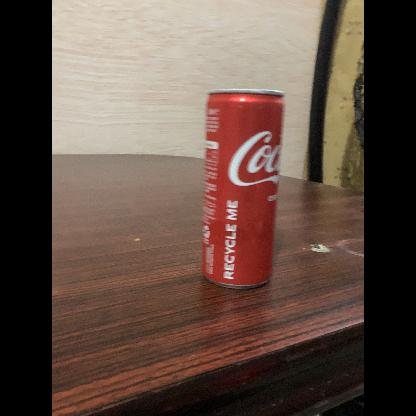Tin_Can: (197, 76, 292, 298)
